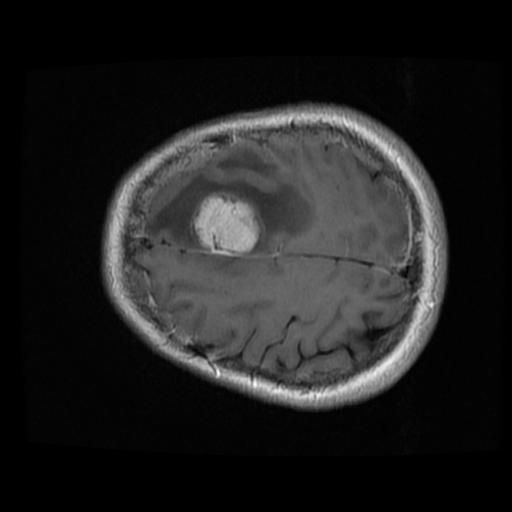meningioma: (193, 195, 260, 256)
